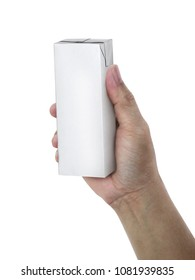carton: (50, 28, 124, 191)
